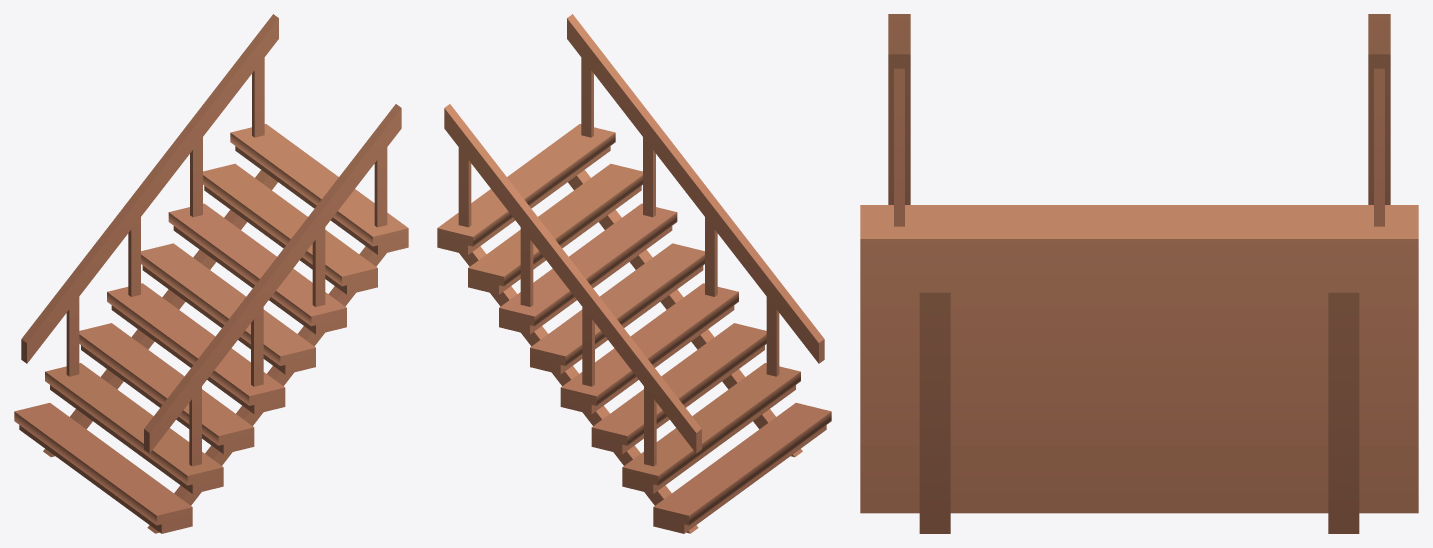
Rendered from stairs-wide-wood-handrail.glb.
3 views of the same model, side by side, from view 1: azimuth 30°, elevation 25°; view 2: azimuth 150°, elevation 25°; view 3: azimuth 270°, elevation 25° (orthographic). The views are drawn at different scales.
Parts seen in each view (by area): view 1: stairs-wide-wood-handrail; view 2: stairs-wide-wood-handrail; view 3: stairs-wide-wood-handrail.
Part boxes in pixels (x1,y1,x2,y2): stairs-wide-wood-handrail: (14, 14, 408, 533); stairs-wide-wood-handrail: (437, 14, 831, 533); stairs-wide-wood-handrail: (860, 14, 1418, 533).
Size of the model in its own units: 1.02 by 1.45 by 1.
1 material, 1 textured.
